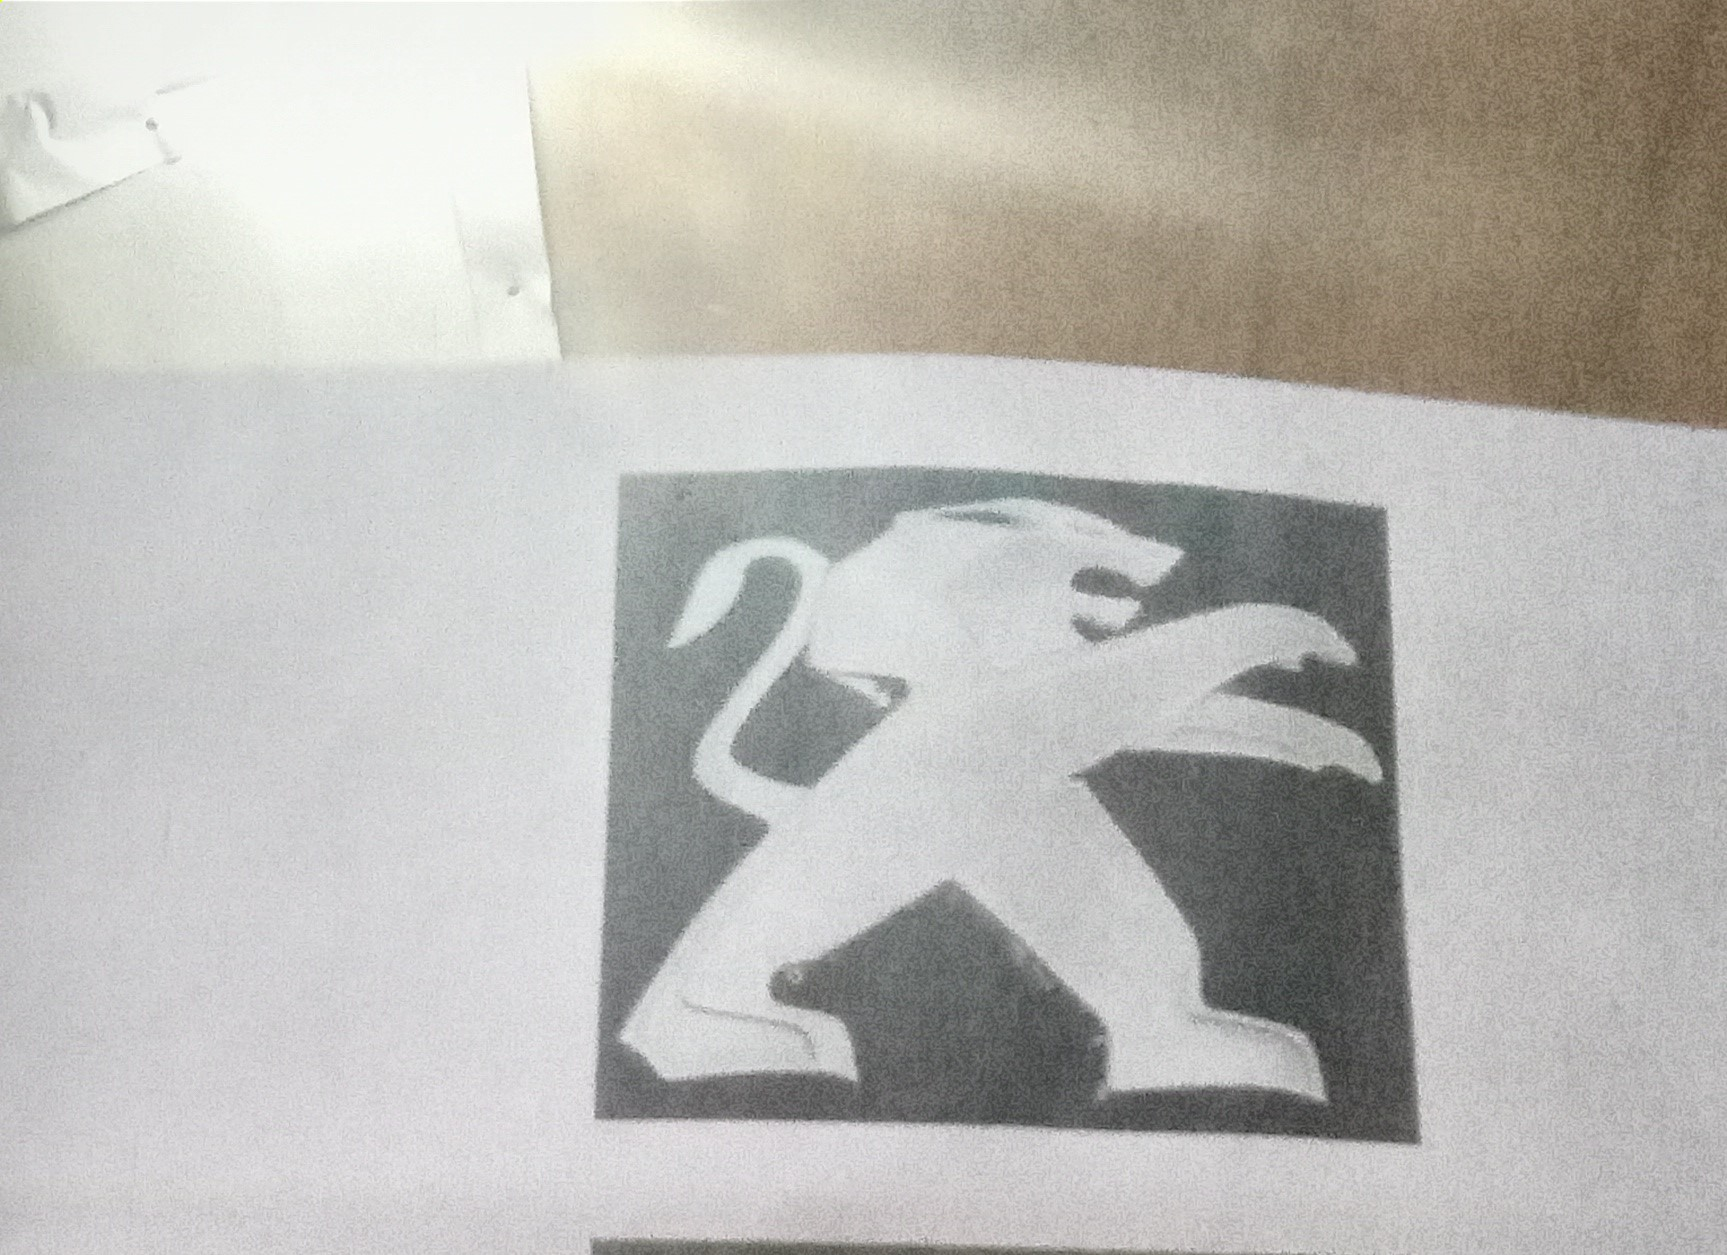Peugeot: (605, 473, 1403, 1124)
